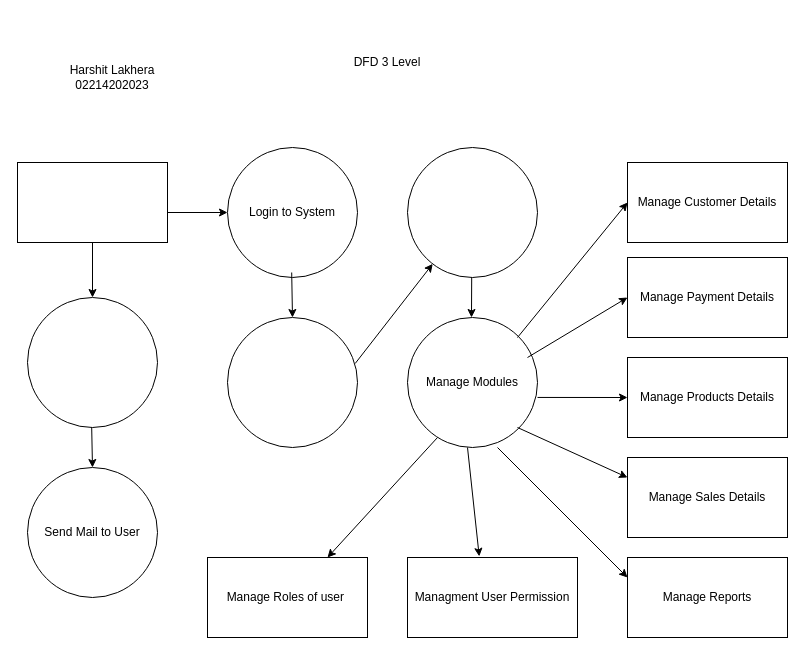
The diagram is 805 pixels wide and 655 high, and some of its shapes have lost their labels. Here are the shapes that lost their labels. From the top down, the centre of each, then its label:
At (x=92, y=202): "Admin".
At (x=472, y=212): "Check Roles of Access".
At (x=92, y=362): "Forgot Password".
At (x=292, y=382): "Check Credentials".
